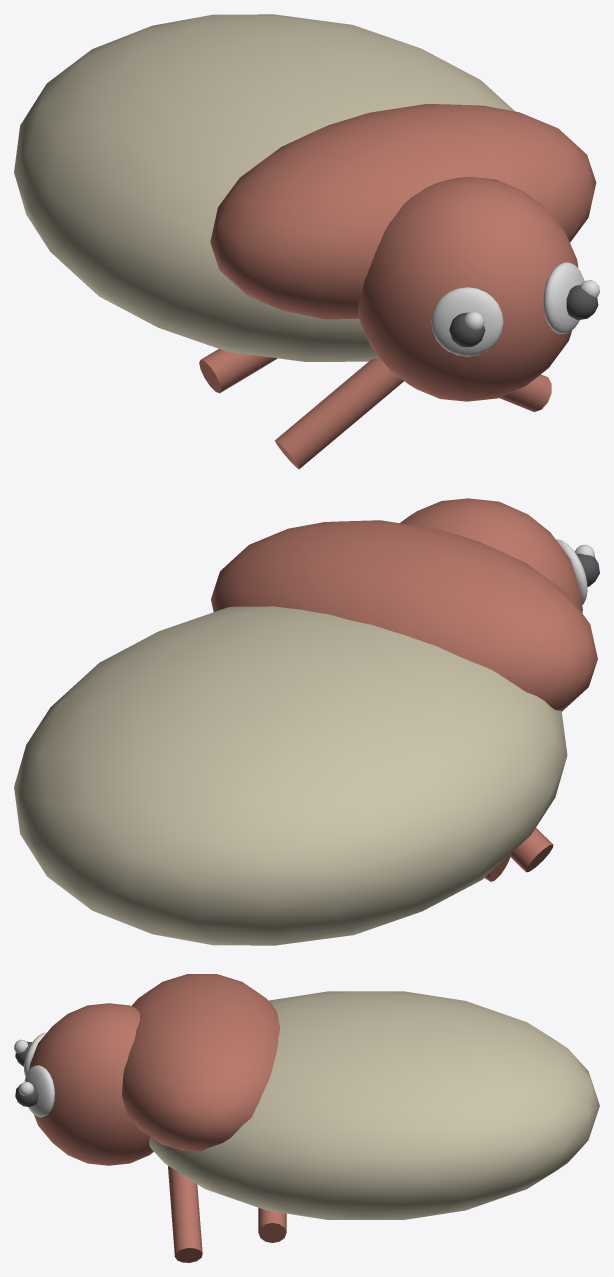
Rendered from peregrinus-maidis.glb.
3 renders of one model, top to bottom at view 1: azimuth 30°, elevation 25°; view 2: azimuth 150°, elevation 25°; view 3: azimuth 270°, elevation 25°, orthographic. The views are drawn at different scales.
Parts seen in each view (by area): view 1: body, pronotum, head, leg0-l, f-eye-r, leg1-l, f-eye-l, leg0-r, f-pupil-l, f-pupil-r; view 2: body, pronotum, head, leg0-l, f-eye-r; view 3: body, pronotum, head, leg0-r, f-eye-l, leg1-r.
Boxes of the visible parts, bbox=[...] form: body: bbox=[14, 14, 514, 361]; pronotum: bbox=[210, 104, 596, 319]; head: bbox=[358, 176, 578, 401]; leg0-l: bbox=[275, 357, 403, 469]; f-eye-r: bbox=[431, 287, 503, 356]; leg1-l: bbox=[199, 349, 277, 393]; f-eye-l: bbox=[543, 262, 584, 334]; leg0-r: bbox=[499, 374, 551, 411]; f-pupil-l: bbox=[566, 285, 598, 319]; f-pupil-r: bbox=[449, 312, 485, 347]; body: bbox=[14, 606, 567, 945]; pronotum: bbox=[211, 520, 597, 711]; head: bbox=[400, 498, 582, 612]; leg0-l: bbox=[510, 828, 553, 872]; f-eye-r: bbox=[556, 539, 587, 604]; body: bbox=[149, 991, 599, 1219]; pronotum: bbox=[122, 974, 279, 1151]; head: bbox=[29, 1003, 153, 1165]; leg0-r: bbox=[168, 1166, 202, 1262]; f-eye-l: bbox=[24, 1065, 54, 1117]; leg1-r: bbox=[258, 1208, 286, 1242].
Size of the model in its own units: 0.32 by 0.2096 by 0.501.
